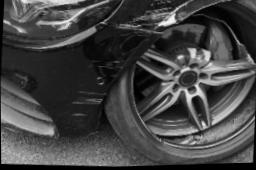Bumper: (57, 25, 162, 139)
Fender: (105, 0, 237, 31)
